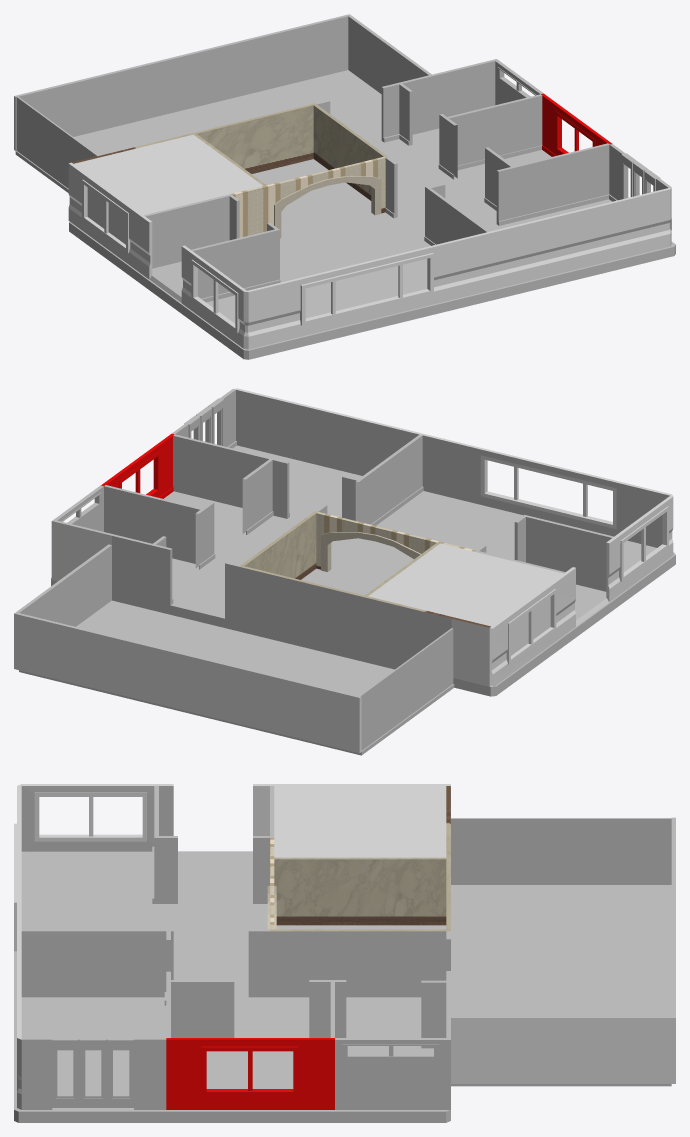
The model's file is VeraxHouse2.fbx.
The picture shows the model from 3 angles, top to bottom: view 1: azimuth 30°, elevation 25°; view 2: azimuth 150°, elevation 25°; view 3: azimuth 270°, elevation 25°; orthographic projection. The views are drawn at different scales.
Parts seen in each view (by area): view 1: GarageWall, LivingRoomWindow, LivingRoomFloor, ExternalWall, Closet, GarageFloor, Foundation, BedroomEntrance, KitchenWall, GaiusWall, KitchenArch, BathroomWall (+20 smaller); view 2: GarageWall, KitchenWall, GarageFloor, Closet, LivingRoomWindow, LivingRoomFloor, ExternalWall, BedroomEntrance, GarageDoor, BathroomWall, GaiusWall, Foundation (+18 smaller); view 3: GarageFloor, LivingRoomFloor, GarageWall2, GarageDoor, Closet, KitchenWall2, KitchenWall3, LivingRoomWall, GaiusWallWindowed, BedroomFloor, BedroomWindow, BathroomWindow (+19 smaller).
Part boxes in pixels (bbox=[...]): GarageWall: bbox=[14, 15, 348, 150]; LivingRoomWindow: bbox=[243, 231, 492, 349]; LivingRoomFloor: bbox=[149, 212, 430, 323]; ExternalWall: bbox=[490, 187, 671, 289]; Closet: bbox=[74, 134, 262, 244]; GarageFloor: bbox=[15, 70, 381, 192]; Foundation: bbox=[69, 221, 675, 359]; BedroomEntrance: bbox=[430, 143, 609, 225]; KitchenWall: bbox=[72, 103, 316, 173]; GaiusWall: bbox=[447, 94, 542, 170]; KitchenArch: bbox=[231, 156, 385, 238]; BathroomWall: bbox=[397, 59, 498, 134]; GarageWall: bbox=[17, 613, 361, 753]; KitchenWall: bbox=[239, 565, 490, 686]; GarageFloor: bbox=[19, 600, 454, 755]; Closet: bbox=[368, 543, 563, 685]; LivingRoomWindow: bbox=[420, 433, 672, 547]; LivingRoomFloor: bbox=[330, 491, 656, 626]; ExternalWall: bbox=[233, 388, 420, 475]; BedroomEntrance: bbox=[173, 434, 358, 521]; GarageDoor: bbox=[359, 628, 453, 750]; BathroomWall: bbox=[51, 519, 155, 604]; GaiusWall: bbox=[104, 485, 201, 563]; Foundation: bbox=[51, 552, 675, 696]; GarageFloor: bbox=[451, 885, 671, 1086]; LivingRoomFloor: bbox=[21, 851, 267, 997]; GarageWall2: bbox=[451, 1016, 675, 1083]; GarageDoor: bbox=[451, 818, 671, 884]; Closet: bbox=[274, 785, 446, 857]; KitchenWall2: bbox=[274, 857, 446, 925]; KitchenWall3: bbox=[270, 929, 446, 997]; LivingRoomWall: bbox=[21, 929, 173, 997]; GaiusWallWindowed: bbox=[166, 1038, 334, 1109]; BedroomFloor: bbox=[21, 997, 166, 1107]; BedroomWindow: bbox=[21, 1037, 166, 1109]; BathroomWindow: bbox=[335, 1038, 446, 1109].
Bounding box in the file's own units: 27.24 × 3.69 × 25.16.
